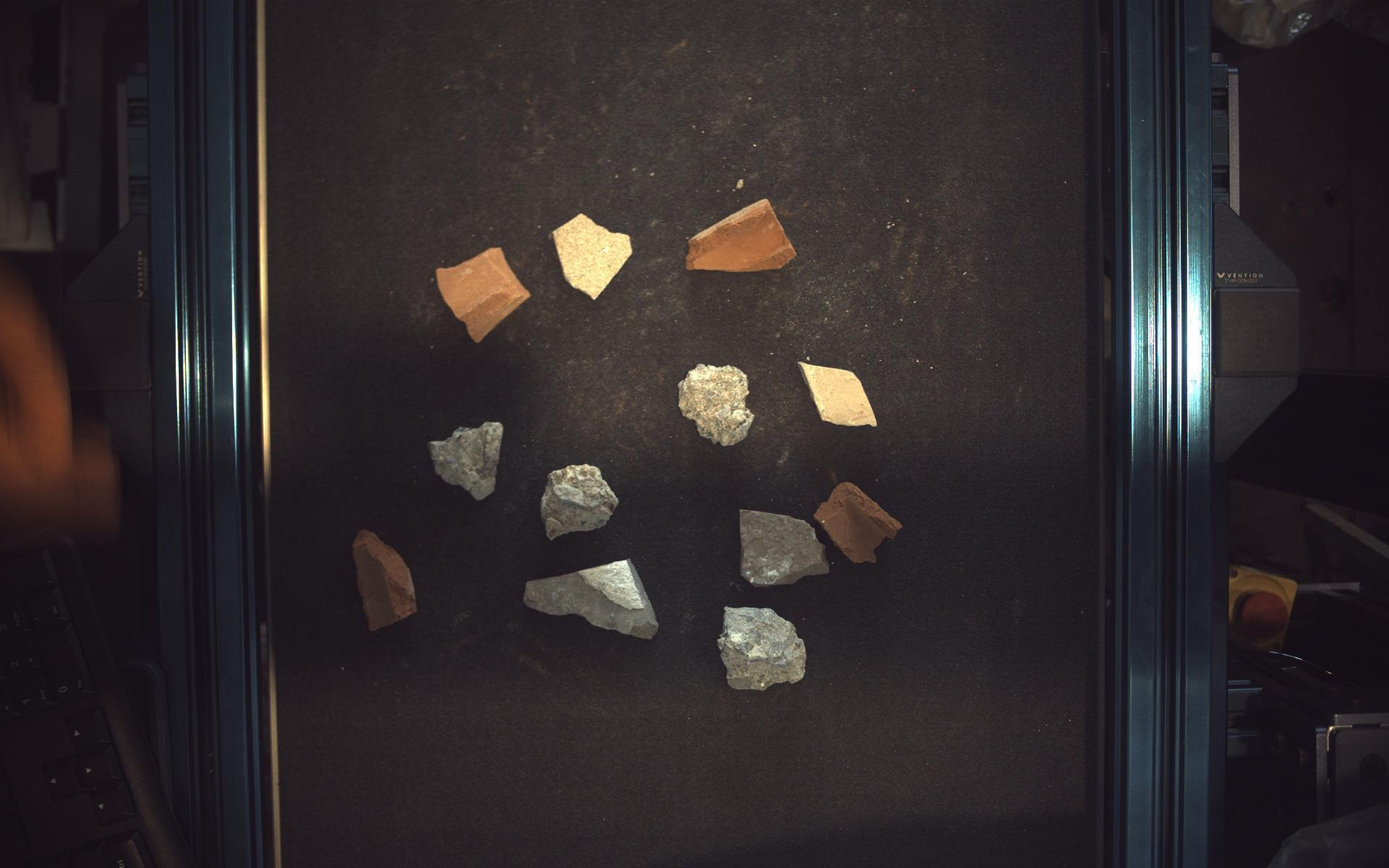brick: (436, 247, 530, 341), (688, 198, 797, 271), (816, 482, 903, 563), (352, 530, 415, 632)
concrete: (718, 608, 807, 692), (680, 365, 755, 446), (428, 422, 504, 501), (541, 464, 619, 540)
tile: (524, 561, 658, 640), (552, 213, 632, 299), (742, 510, 831, 587), (800, 362, 878, 426)
